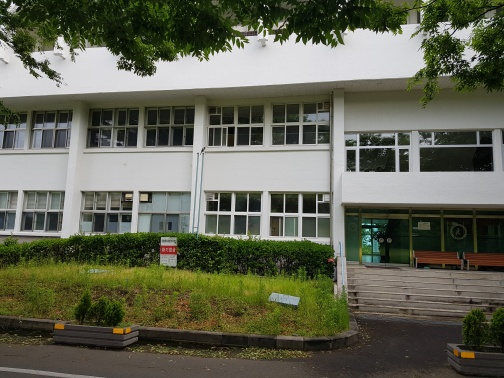Main Building of University: (8, 38, 504, 273), (322, 106, 504, 322)
